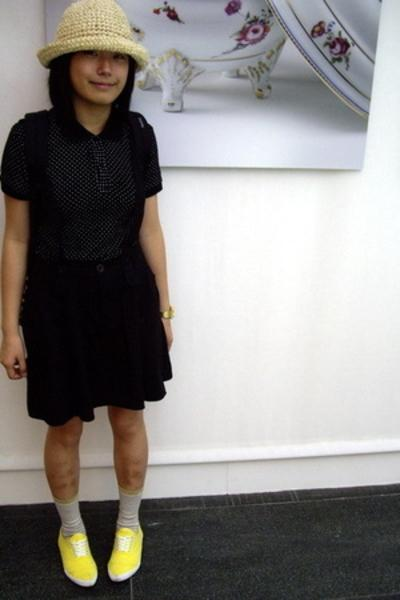dress: (0, 108, 171, 426)
hat: (37, 0, 144, 59)
shoe: (58, 527, 142, 585)
